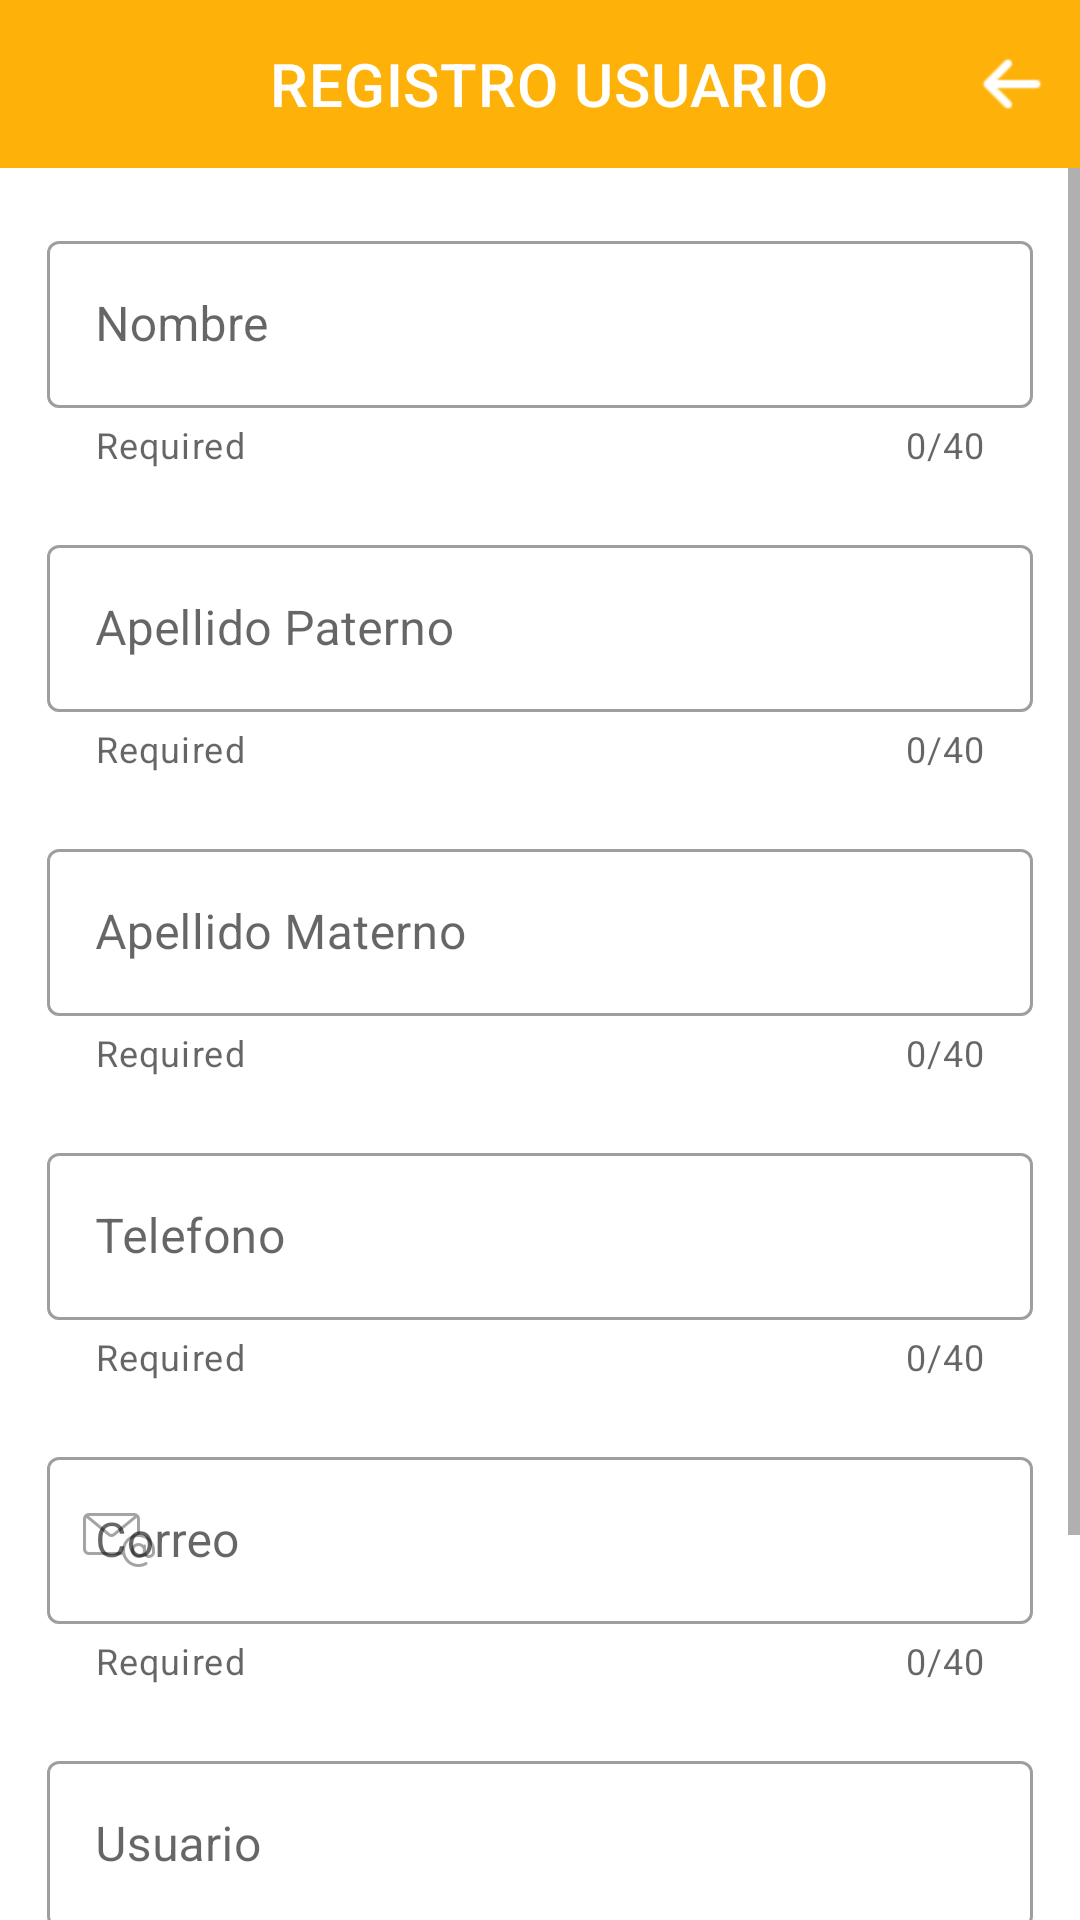

Point at icon controls on the screen. Image size 1080px x 1920px, points as (x=x, y=y).
flecha: (x=1011, y=84)
